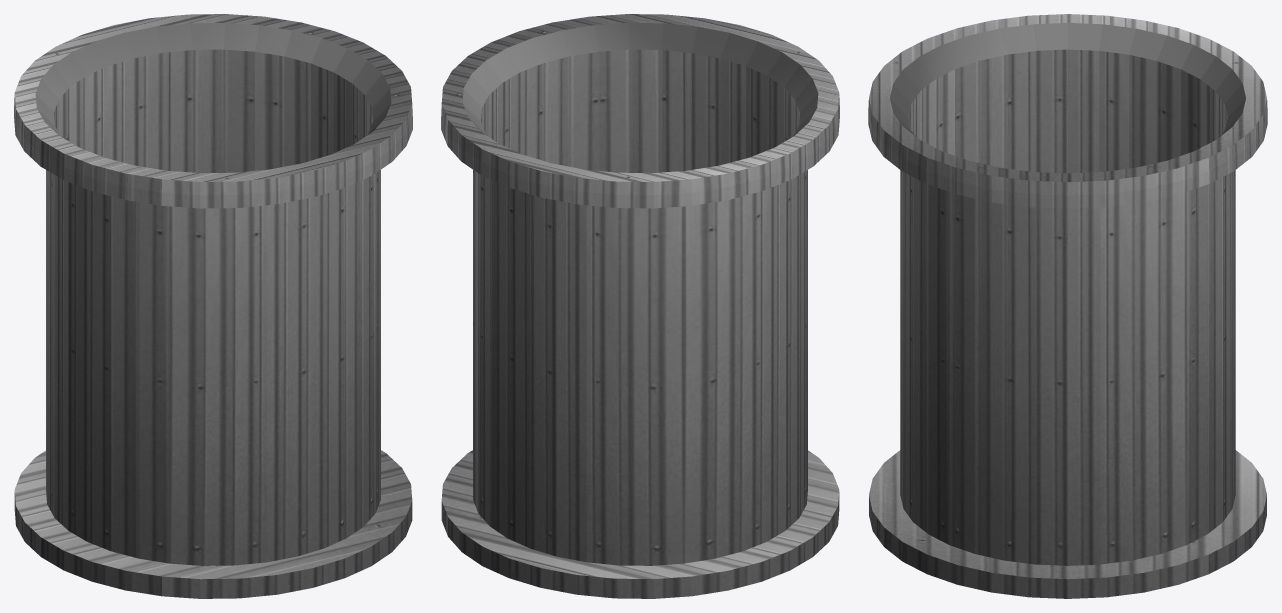
File: BotesBasura.fbx
3 renders of one model, left to right at view 1: azimuth 30°, elevation 25°; view 2: azimuth 150°, elevation 25°; view 3: azimuth 270°, elevation 25°, orthographic.
Visible parts, largest first — view 1: BoteVacio; view 2: BoteVacio; view 3: BoteVacio.
Boxes of the visible parts, x1,y1,x2,y2 form: BoteVacio: (14, 14, 412, 598); BoteVacio: (441, 14, 839, 598); BoteVacio: (868, 14, 1267, 598).
Size of the model in its own units: 57.29 by 65.96 by 57.29.
